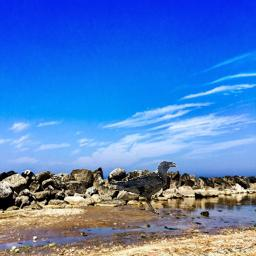Crow: (111, 161, 177, 215)
